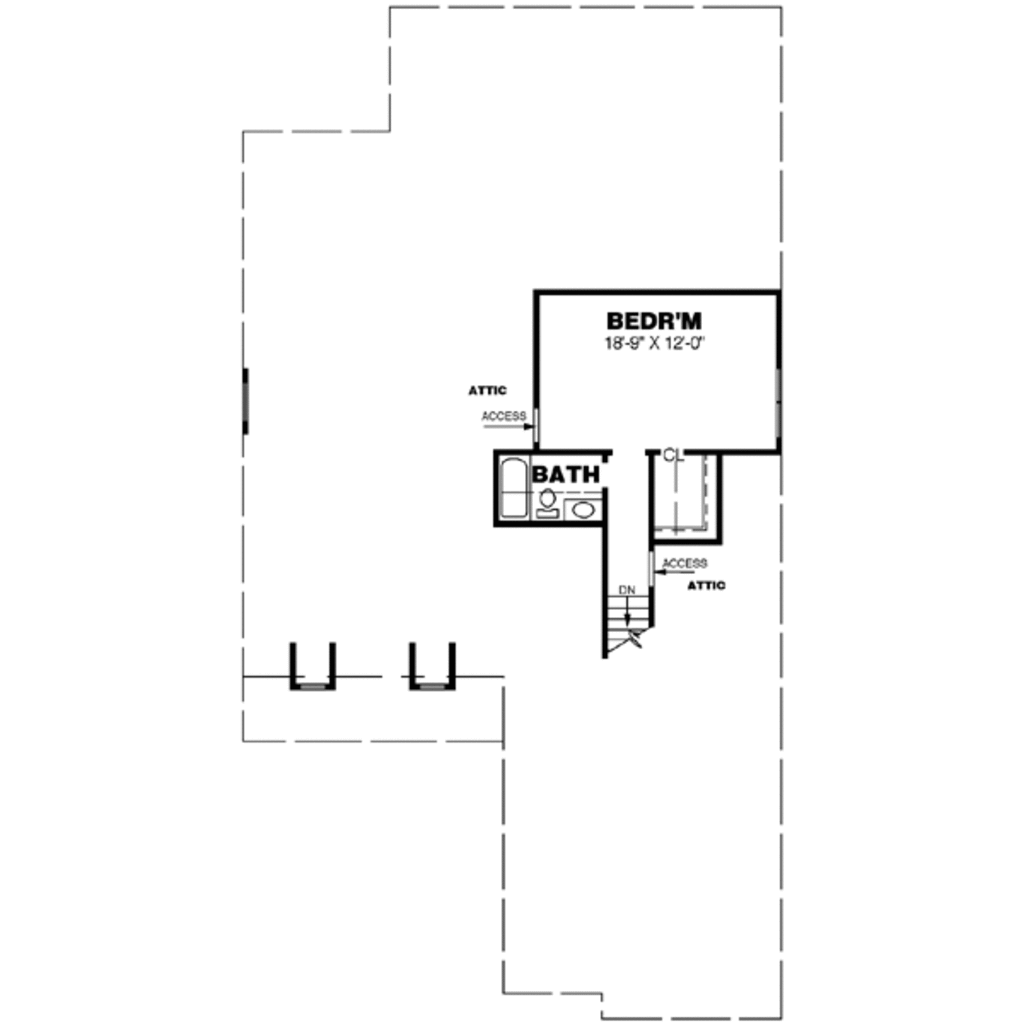large_sink: (534, 472, 561, 528)
small_sink: (572, 488, 602, 519)
stairs: (606, 532, 666, 664)
tub: (503, 452, 527, 522)
